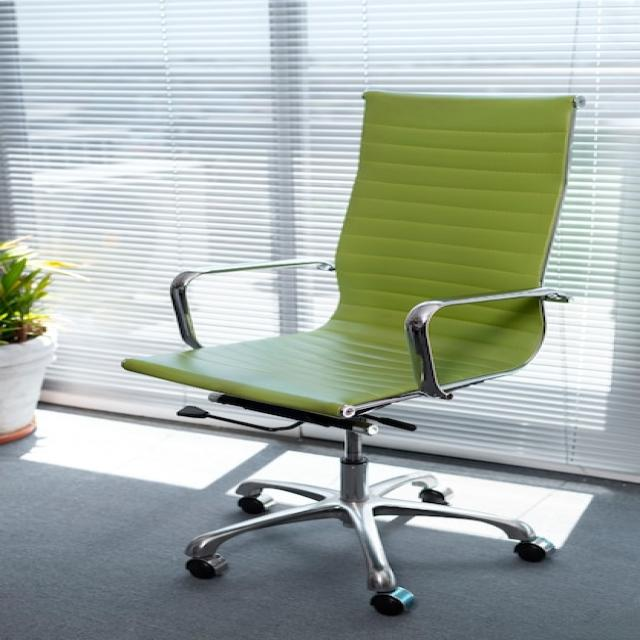chair: (120, 88, 584, 616)
